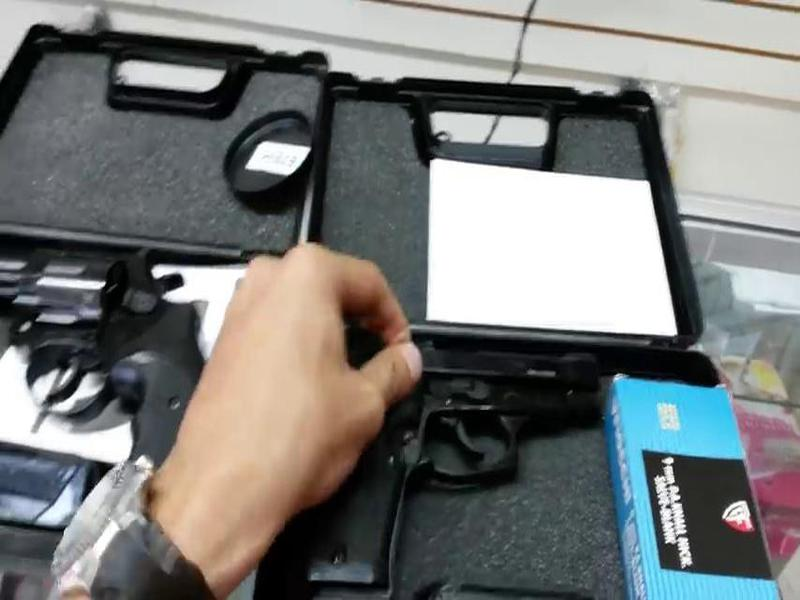Pistola: (310, 313, 625, 588)
Revolver: (1, 236, 237, 519)
